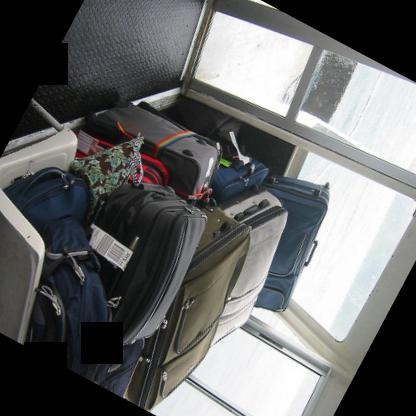backpack: (28, 213, 110, 380)
handbag: (67, 135, 143, 223)
suitcase: (124, 233, 247, 411), (86, 181, 206, 343), (80, 99, 223, 208), (209, 202, 287, 348), (253, 172, 329, 313), (166, 95, 240, 146), (95, 340, 144, 399), (210, 154, 268, 202), (132, 150, 167, 185)
